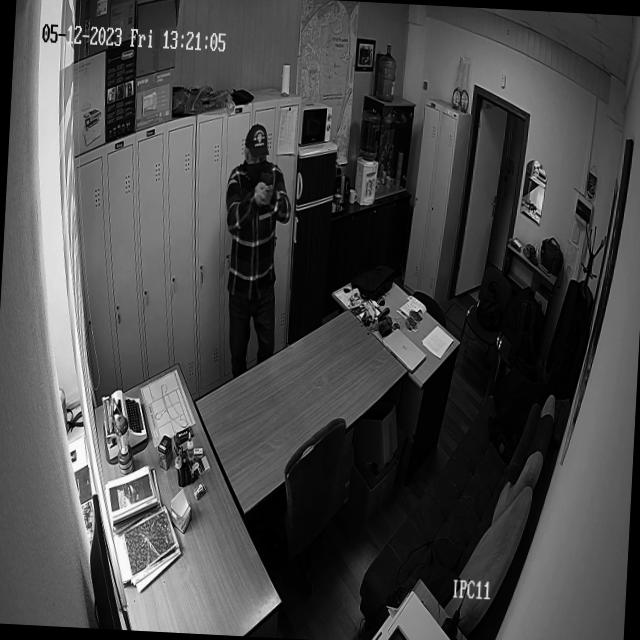gun: (261, 168, 272, 188)
person with a gun: (220, 120, 294, 344)
